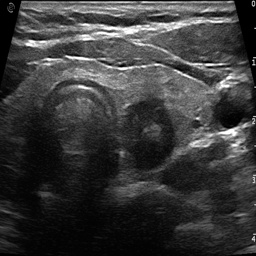mass: (126, 102, 175, 170)
